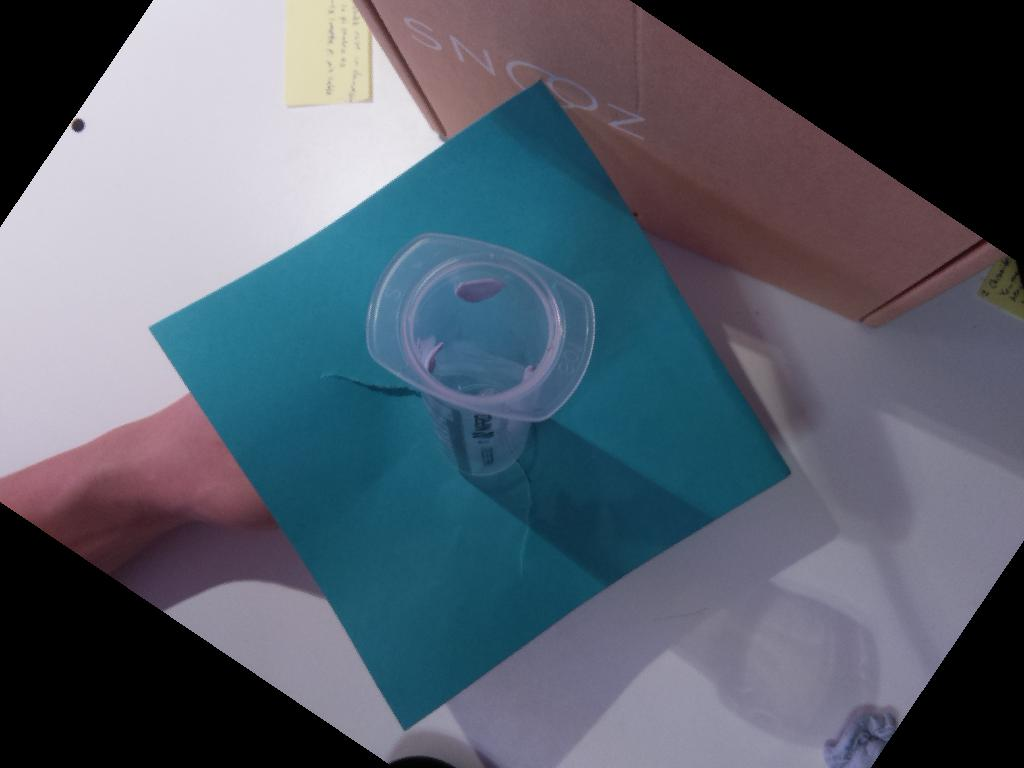dirty: (364, 233, 597, 421)
